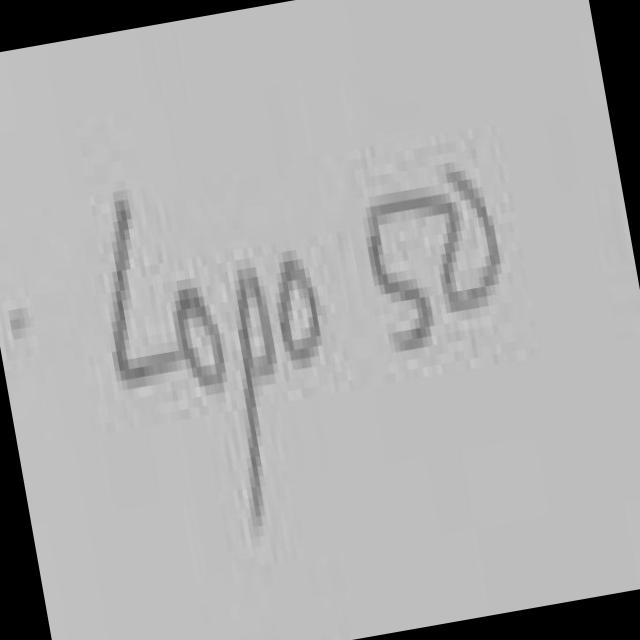0: (446, 170, 504, 311)
5: (371, 194, 454, 346)
L: (114, 200, 179, 375)
o: (179, 287, 225, 385), (282, 259, 321, 359)
p: (239, 267, 276, 521)
